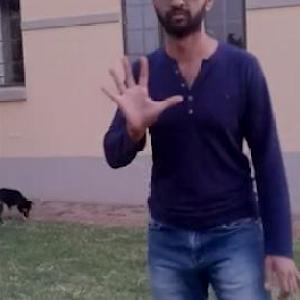follow_hand: (96, 49, 184, 132)
